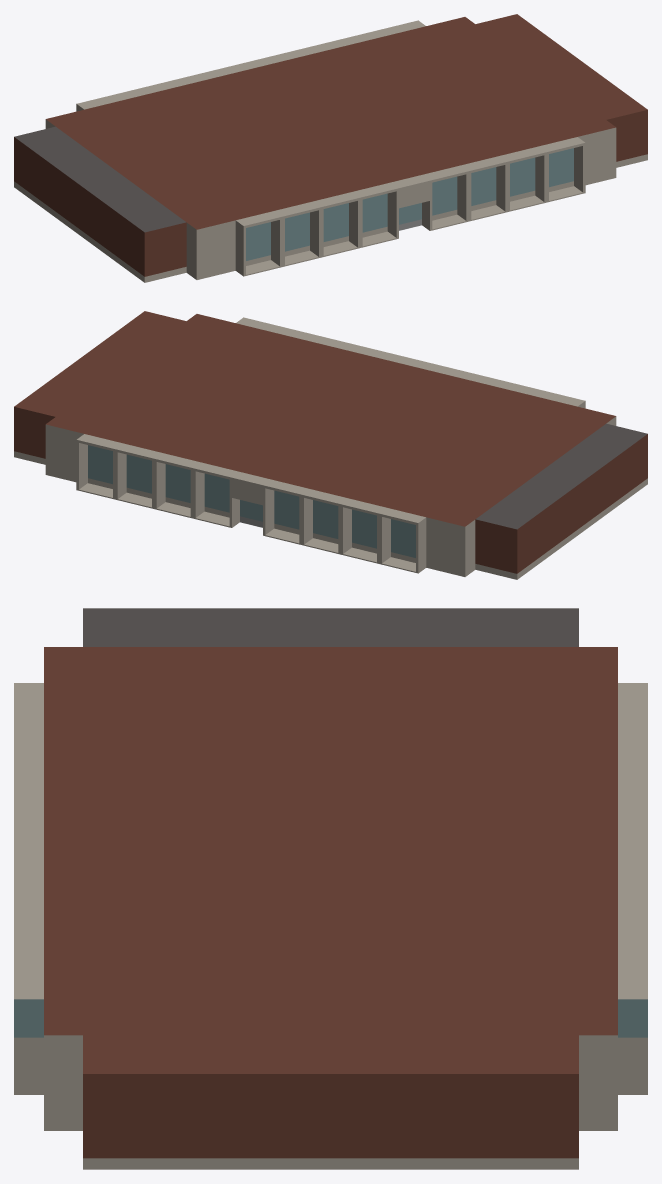
File: Long_S2_Foundation.fbx
3 renders of one model, top to bottom at view 1: azimuth 30°, elevation 25°; view 2: azimuth 150°, elevation 25°; view 3: azimuth 270°, elevation 25°, orthographic. The views are drawn at different scales.
Parts seen in each view (by area): view 1: Long_S2_Foundation; view 2: Long_S2_Foundation; view 3: Long_S2_Foundation.
Part boxes in pixels (x1,y1,x2,y2): Long_S2_Foundation: [14, 14, 647, 282]; Long_S2_Foundation: [14, 311, 647, 579]; Long_S2_Foundation: [14, 608, 647, 1169].
Size of the model in its own units: 5220 by 500 by 3003.
